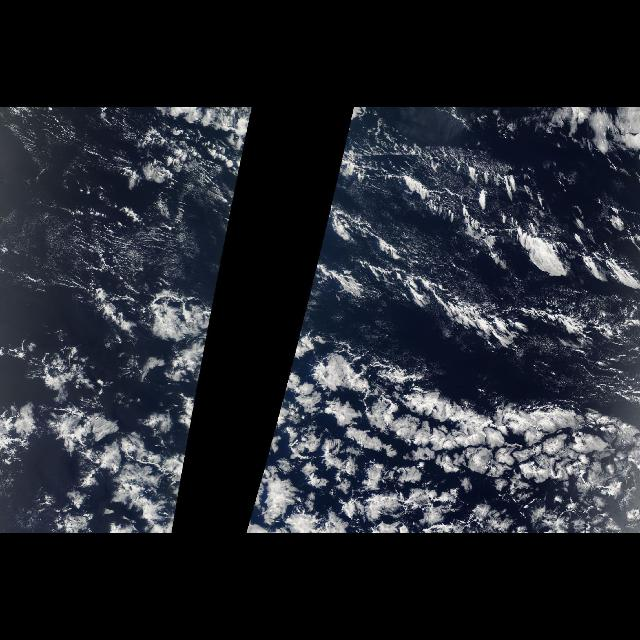Flower: (247, 401, 456, 532)
